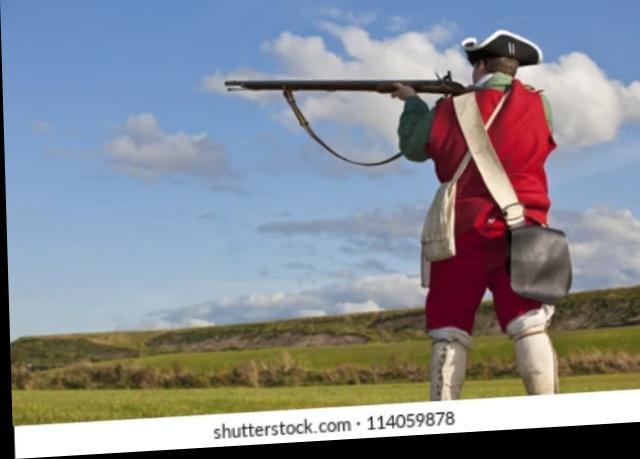other: (222, 29, 581, 411)
